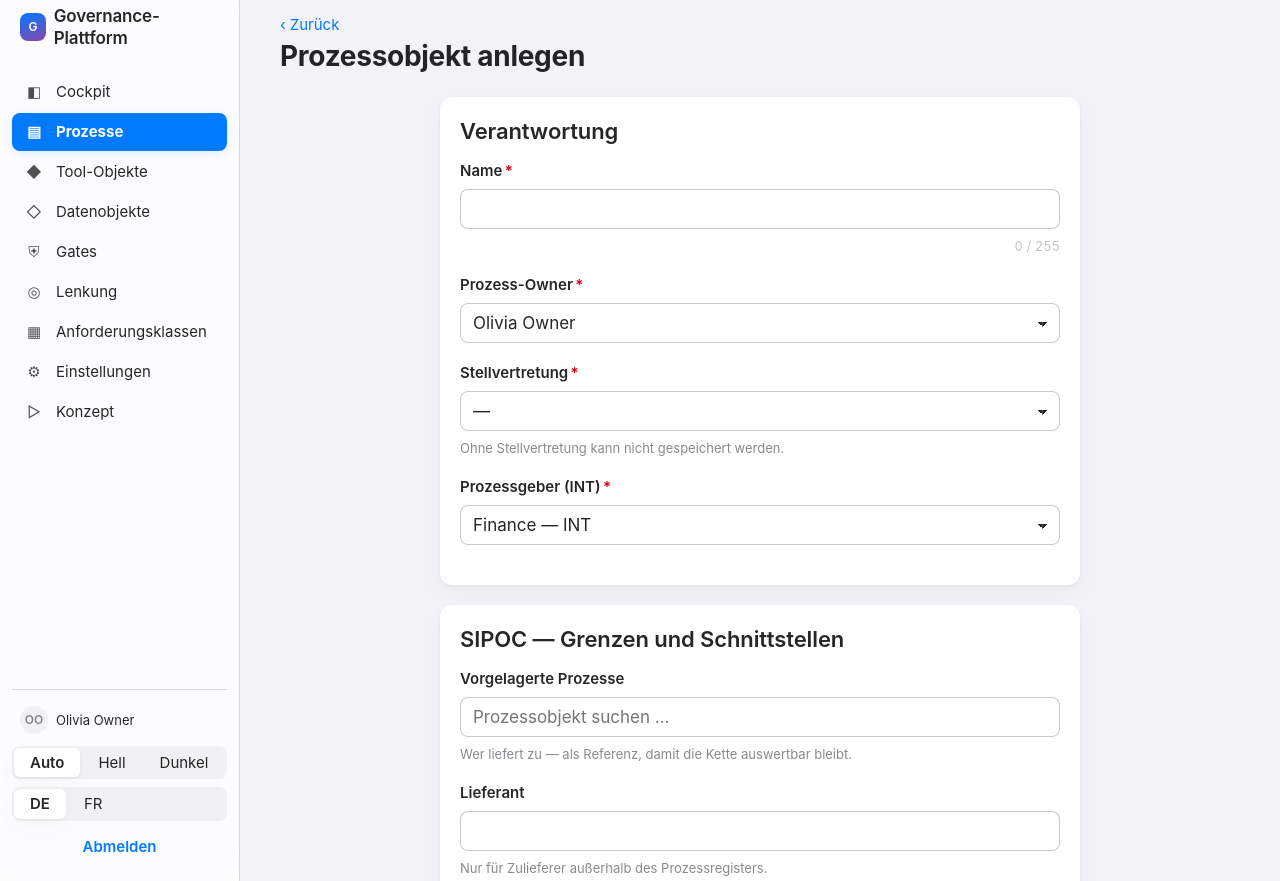
Test: Prozessformular › zeigt die Fehlermeldung des Servers
Type "X" into the field labelled "Name" at (760, 209), box [460,189,1060,229]
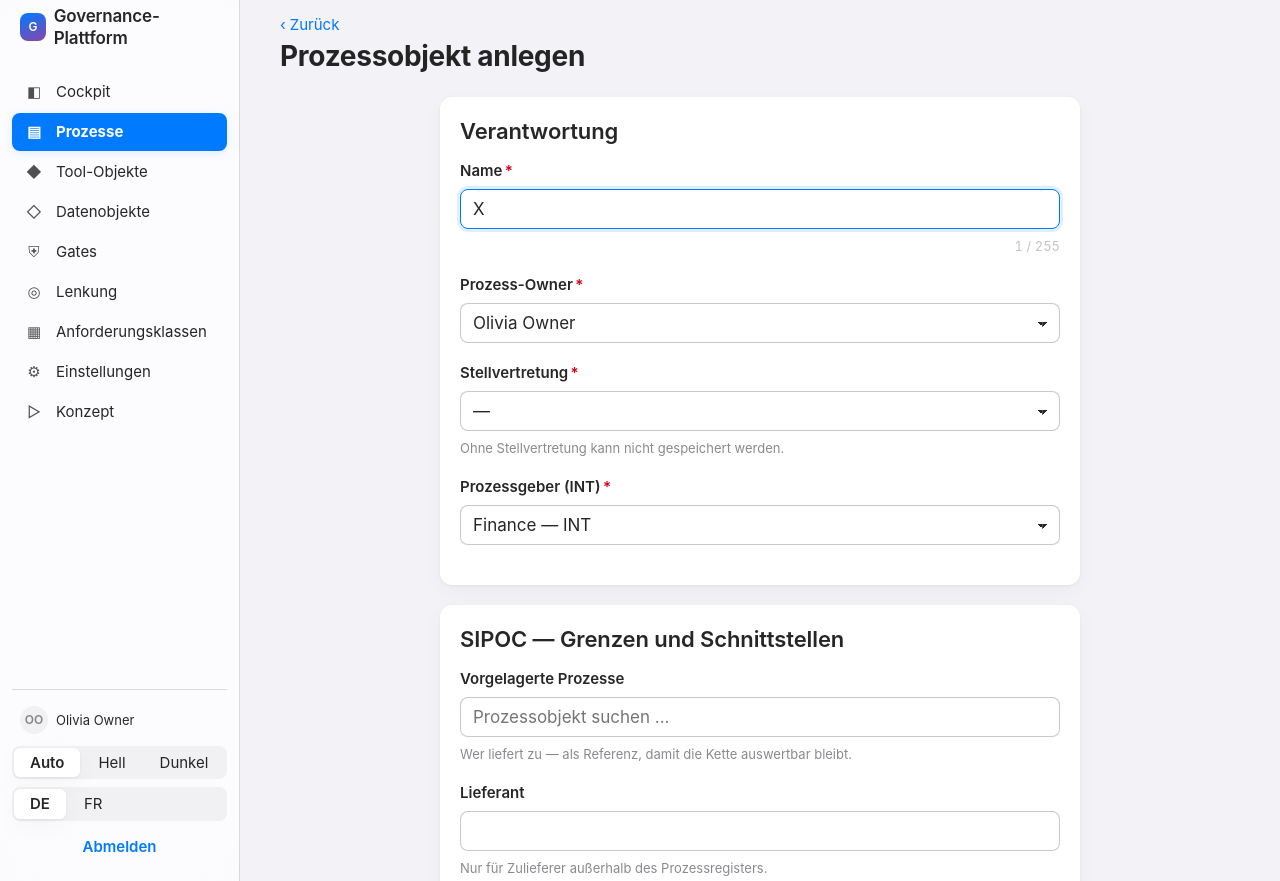
Select "Viktor Vertretung" in the dropdown labelled "Stellvertretung" at (760, 411), box [460,391,1060,431]
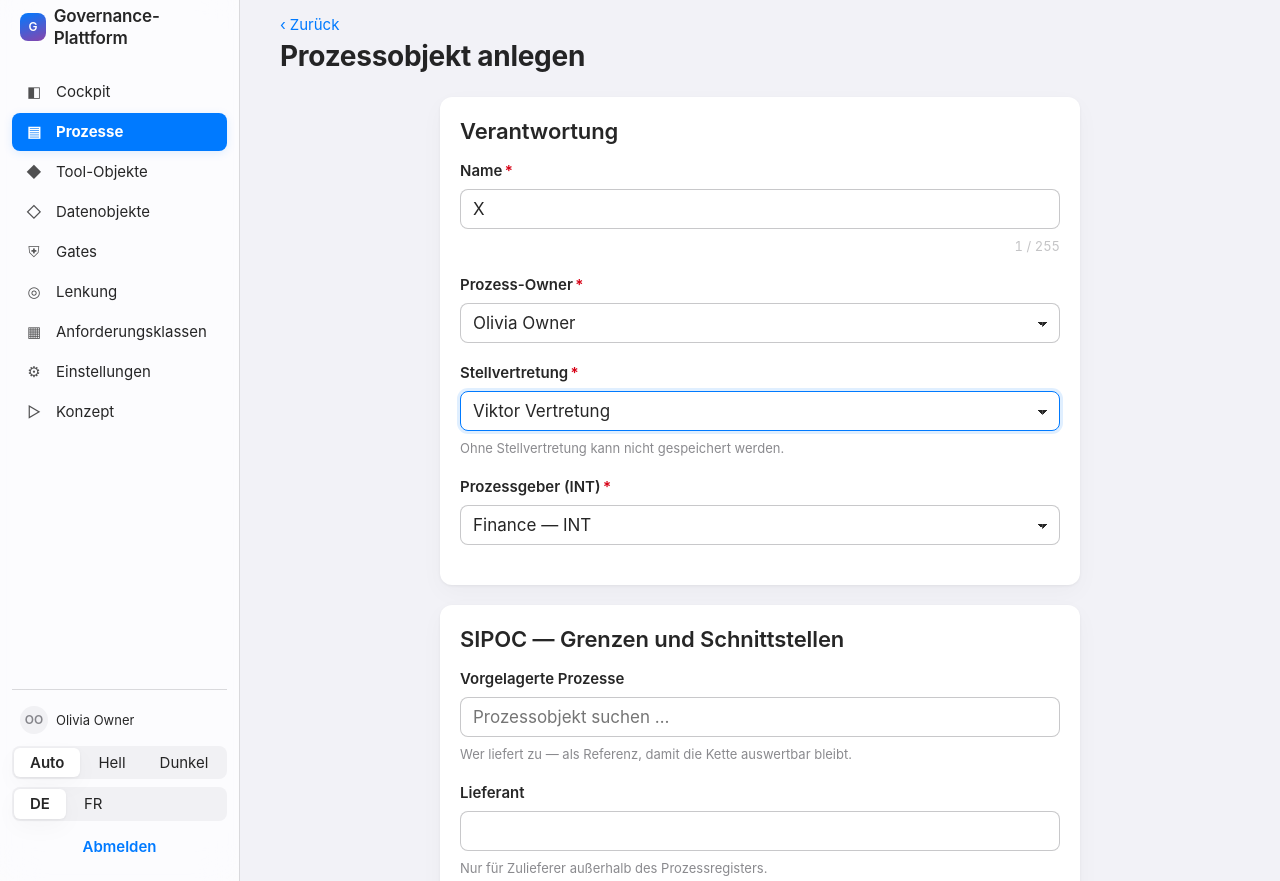
Select "Finance — INT" in the dropdown labelled "Prozessgeber (INT)" at (760, 525), box [460,505,1060,545]
(page scrolled)
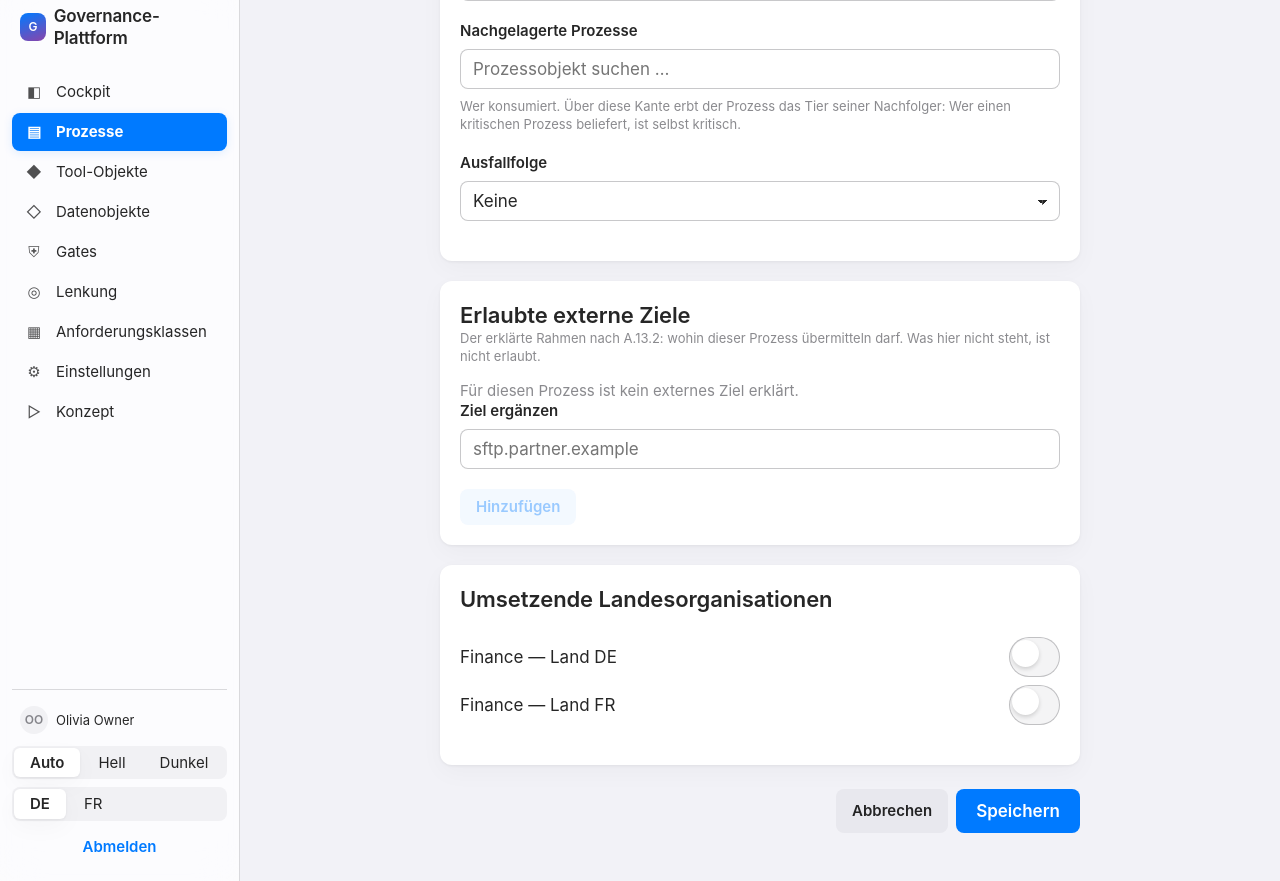
Click the button "Speichern" at (1018, 811), box [956,789,1080,833]
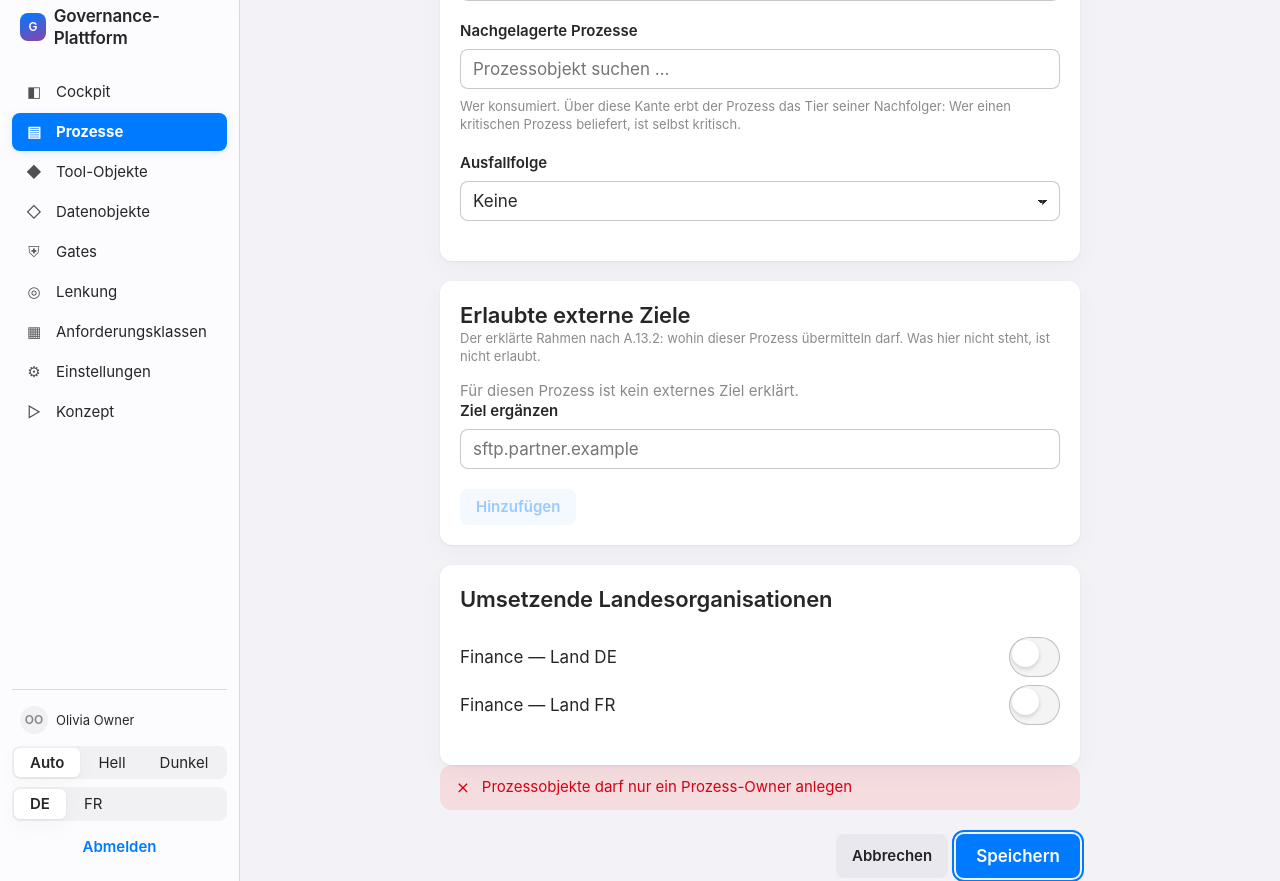
Now the message shows "Prozessobjekte darf nur ein Prozess-Owner anlegen", box [482,777,852,796]
